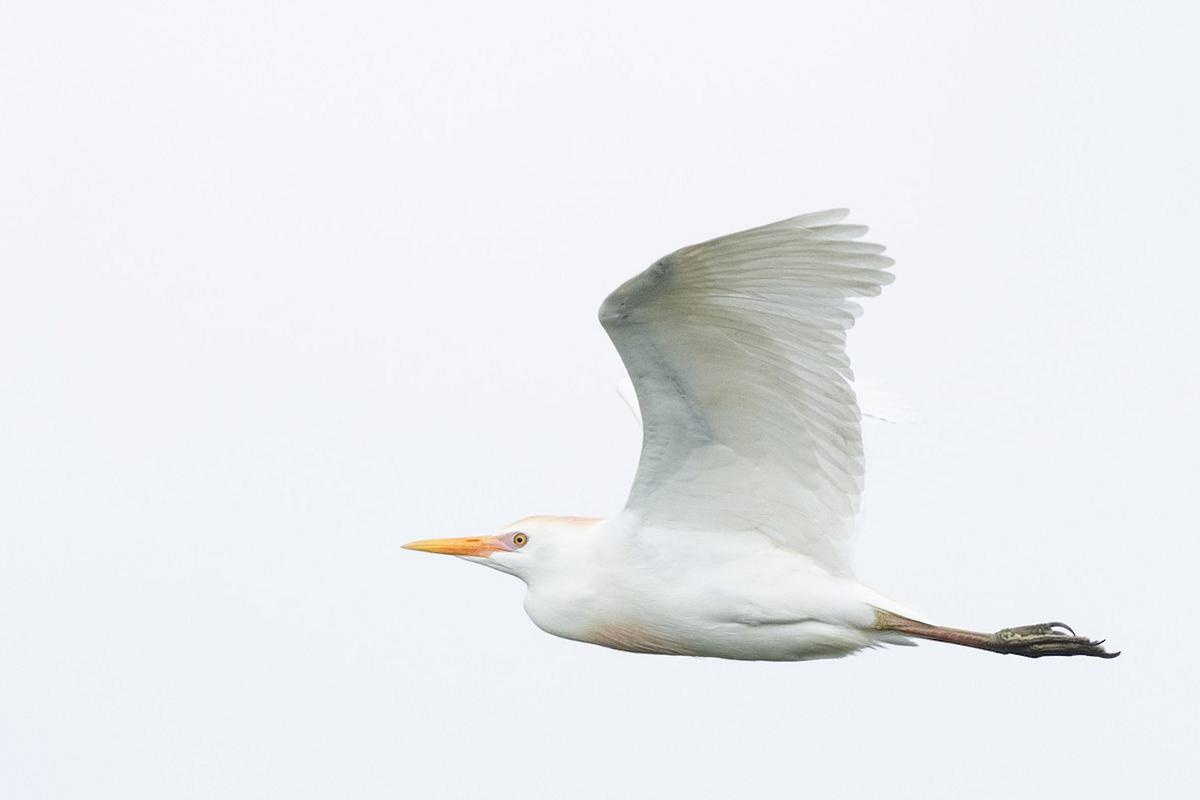egret: (385, 222, 1130, 715)
